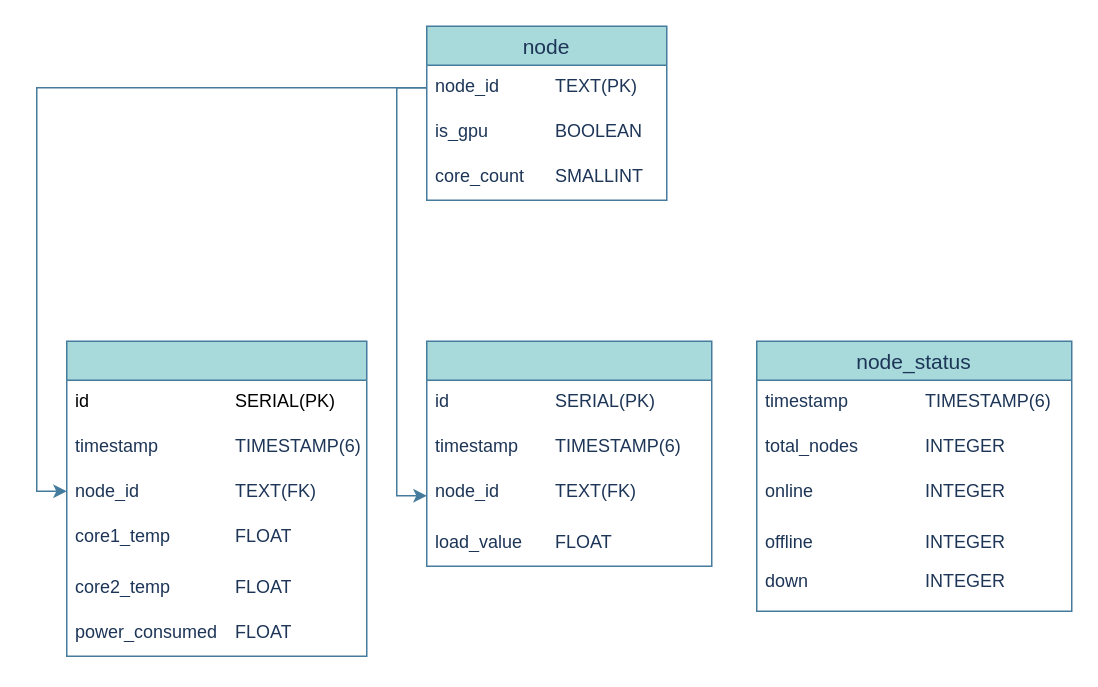
Image size: 1098x687. Some labels were removed from this diagram. Here are the shapes that lost their labels. From the top down, the box of each, then its label:
(425, 340, 712, 566): node_load
(65, 340, 367, 656): node_metrics
